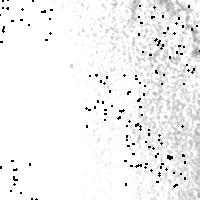pitted_surface: (57, 1, 199, 199), (124, 125, 184, 185), (85, 74, 144, 125), (155, 25, 200, 83), (138, 5, 191, 54), (0, 0, 50, 41), (0, 154, 35, 200)
